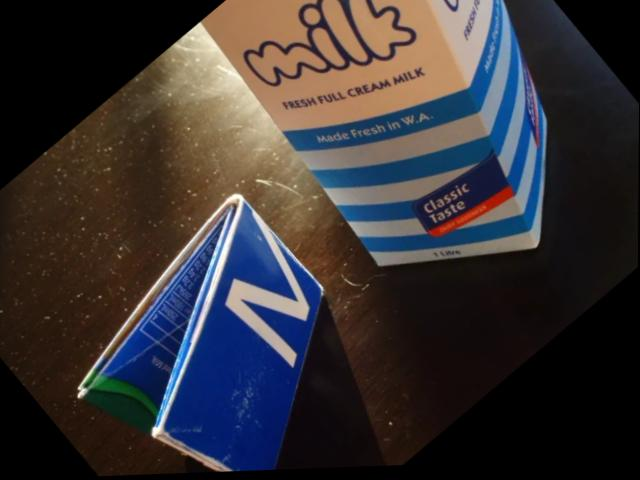cardboard: (205, 0, 634, 289), (78, 195, 392, 470)
